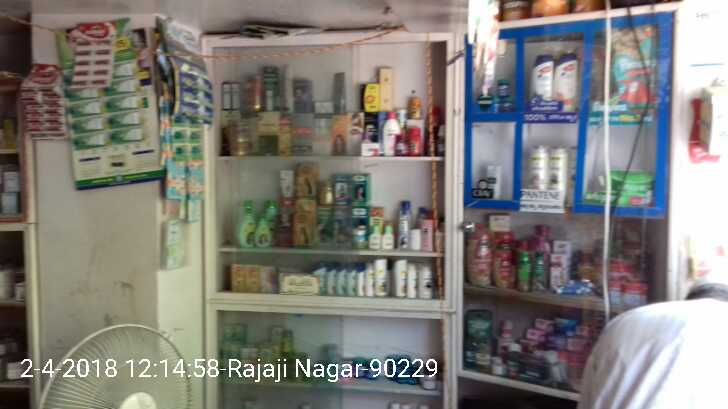vicks: (476, 79, 514, 109)
